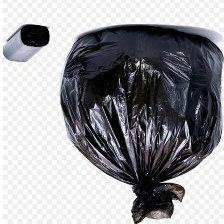plastic_bag: (58, 19, 223, 223), (0, 21, 55, 66)
